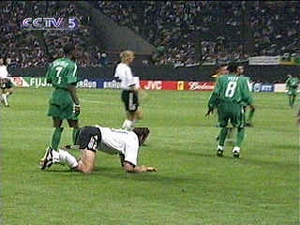fall: (38, 116, 162, 178)
